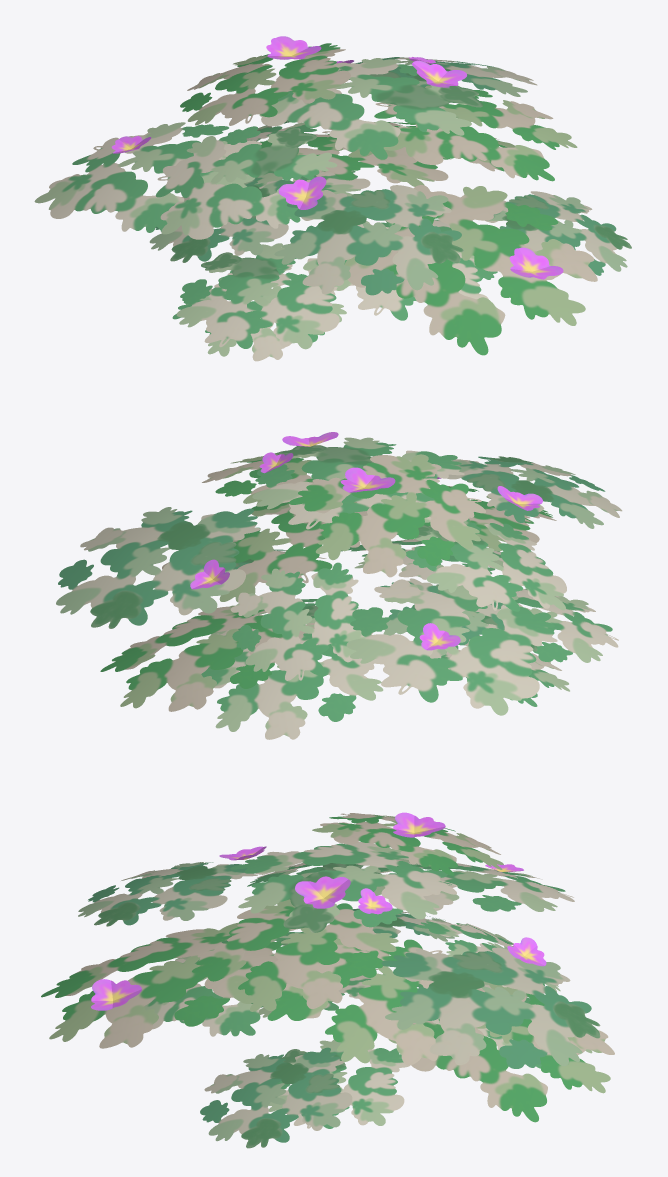
Rendered from plant_alpha_test.obj.
3 views of the same model, one above another, from view 1: azimuth 30°, elevation 25°; view 2: azimuth 150°, elevation 25°; view 3: azimuth 270°, elevation 25° (orthographic).
Parts seen in each view (by area): view 1: leafy_foliage_Plane.003; view 2: leafy_foliage_Plane.003; view 3: leafy_foliage_Plane.003.
Boxes of the visible parts, <box> form: leafy_foliage_Plane.003: <box>34,36,631,361</box>; leafy_foliage_Plane.003: <box>56,432,622,739</box>; leafy_foliage_Plane.003: <box>41,812,614,1148</box>.
Bounding box in the file's own units: 2.18 × 0.9975 × 2.37.
